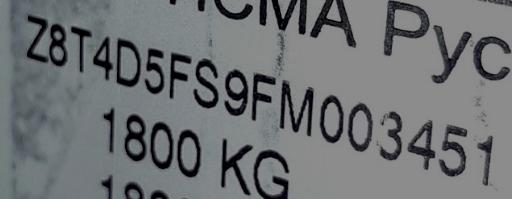letter: (278, 76, 316, 139), (436, 121, 470, 180), (405, 113, 437, 171), (344, 97, 374, 154), (374, 105, 404, 162), (192, 55, 220, 110), (222, 66, 252, 117), (114, 37, 142, 91), (248, 69, 276, 120), (24, 13, 50, 65), (318, 94, 344, 145), (168, 49, 192, 102), (70, 23, 94, 75), (142, 44, 166, 95), (474, 130, 494, 188), (91, 34, 115, 82), (46, 21, 70, 68)
